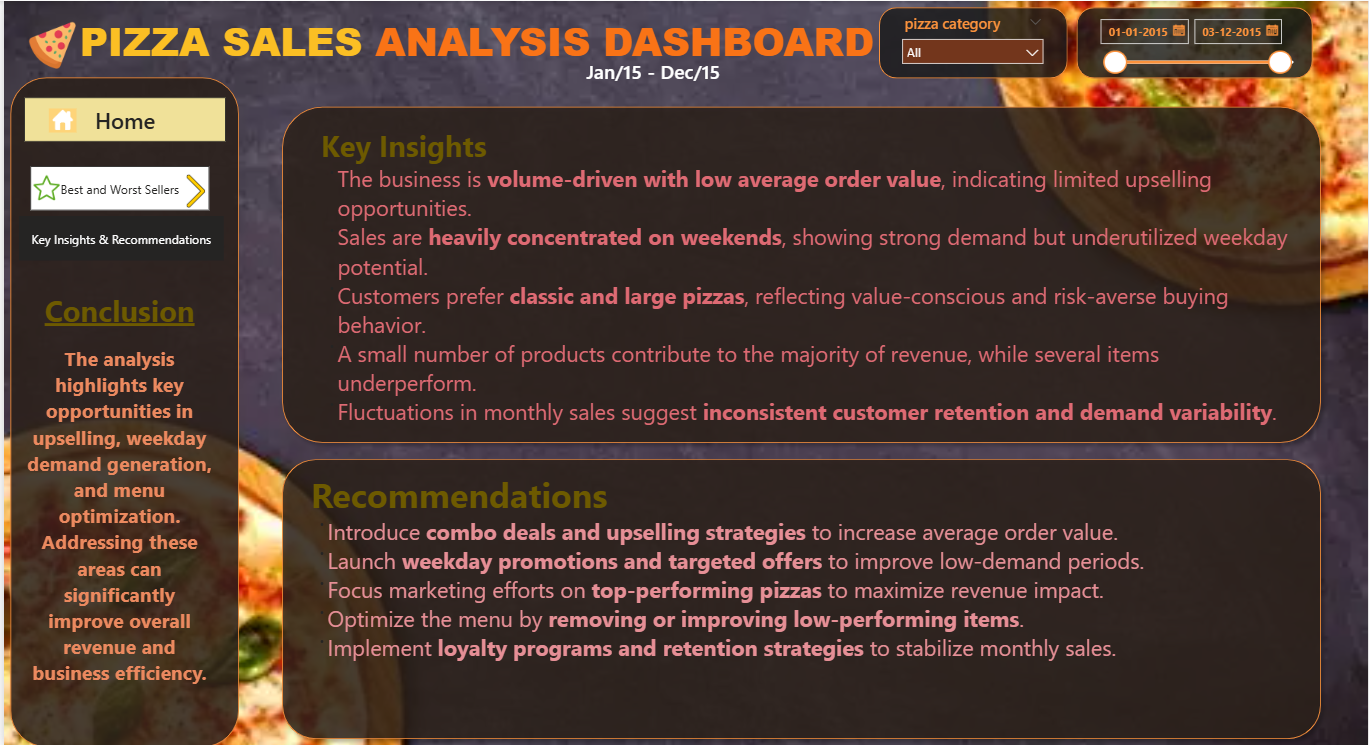

Layout of this report page (visuals, bound fields, positions):
{"tool":"powerbi","page":{"name":"Key Insights & Recommendations","canvas":[1500,820],"ordinal":2},"visuals":[{"type":"textbox","box":[78.3,8.2,960.4,81.1],"z":4000},{"type":"textbox","box":[592.2,57.7,243.2,38.5],"z":5000},{"type":"image","box":[0,22,105.8,53.6],"z":6000},{"type":"shape","box":[6.9,83.8,251.4,736.5],"z":8000},{"type":"textbox","box":[16.5,313.3,221.2,507],"z":10000},{"type":"shape","box":[961.8,6.9,207.5,78.3],"z":12000},{"type":"slicer","fields":{"Values":["pizza_sales pizza_sales.pizza_category"]},"box":[976.9,8.2,175.9,72.8],"z":13000},{"type":"shape","box":[1178.9,6.9,259.7,78.3],"z":14000},{"type":"slicer","fields":{"Values":["pizza_sales pizza_sales.order_date"]},"box":[1192.6,9.6,245.9,81.1],"z":15000},{"type":"shape","box":[296.8,107.2,1159.7,387.5],"z":18000},{"type":"pageNavigator","box":[28.9,181.4,197.9,49.5],"z":29000},{"type":"pageNavigator","box":[22,105.8,222.6,49.5],"z":30000},{"type":"image","box":[184.1,191,53.6,35.7],"z":31000},{"type":"image","box":[16.5,118.2,96.2,26.1],"z":32000},{"type":"image","box":[6.9,191,79.7,28.9],"z":33000},{"type":"textbox","box":[343.5,131.9,1080,362.7],"z":33001},{"type":"shape","box":[296.8,494.6,1159.7,325.6],"z":33002},{"type":"textbox","box":[332.5,512.5,1106.1,291.3],"z":33003},{"type":"pageNavigator","box":[16.5,236.3,225.3,49.5],"z":33004}]}

Visuals, with their boxes in screenshot pixels (x1, y1, x2, y2), scaled from the page's 1500x820 canvas onto the 1369x745 screenshot:
textbox: (71,7,948,81)
textbox: (540,52,762,87)
image: (0,20,97,69)
shape: (6,76,236,744)
textbox: (15,285,217,744)
shape: (878,6,1067,77)
slicer - pizza_sales pizza_sales.pizza_category: (892,7,1052,74)
shape: (1076,6,1313,77)
slicer - pizza_sales pizza_sales.order_date: (1088,9,1313,82)
shape: (271,97,1329,449)
pageNavigator: (26,165,207,210)
pageNavigator: (20,96,223,141)
image: (168,174,217,206)
image: (15,107,103,131)
image: (6,174,79,200)
textbox: (314,120,1299,449)
shape: (271,449,1329,744)
textbox: (303,466,1313,730)
pageNavigator: (15,215,221,260)
